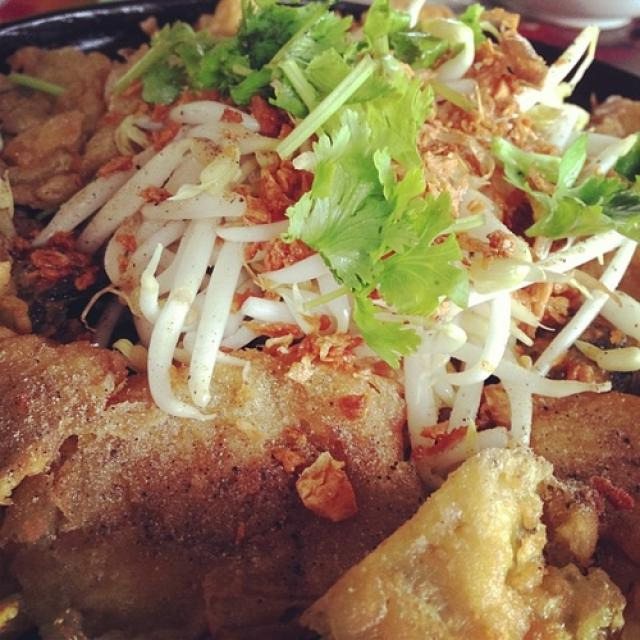炸货点心: (26, 11, 634, 628)
蛋糕甜品: (26, 11, 634, 628)
